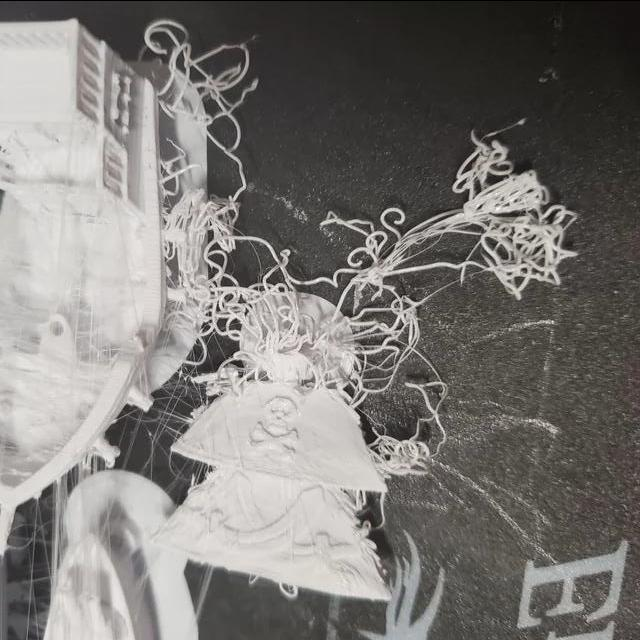Spaghetti: (462, 157, 568, 291), (158, 20, 250, 131), (342, 212, 415, 324), (178, 204, 236, 323), (235, 290, 305, 360), (338, 307, 403, 379)
